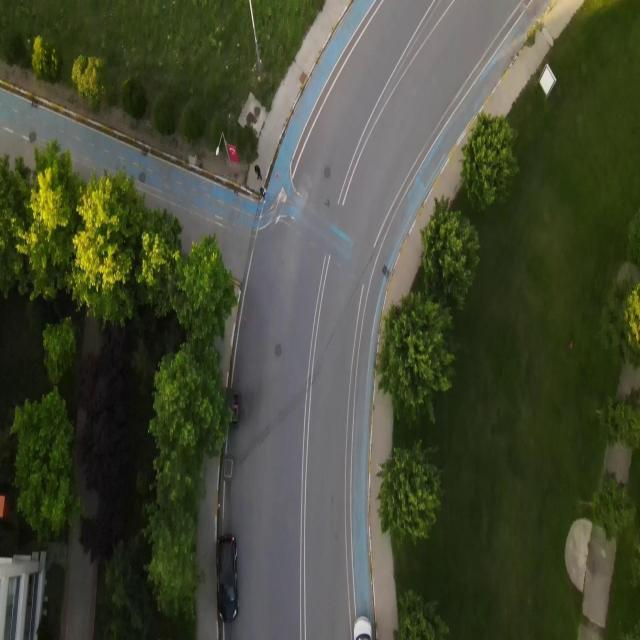p3rson: (254, 164, 262, 182), (260, 186, 267, 205)
